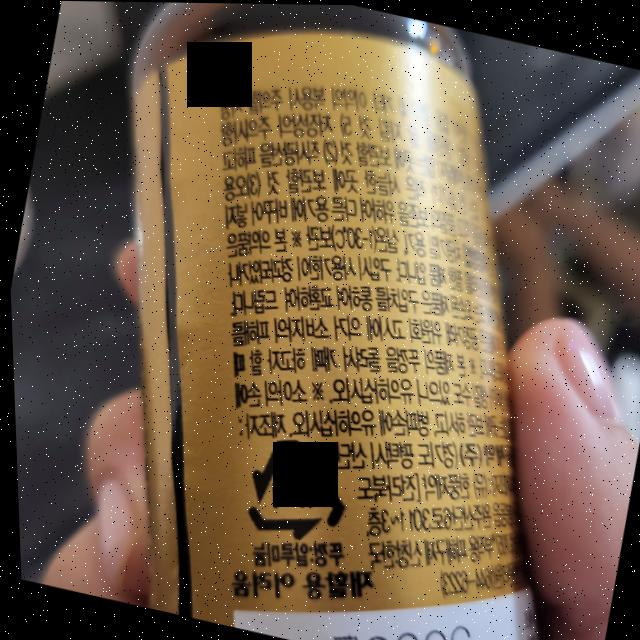Glass: (230, 425, 356, 548)
